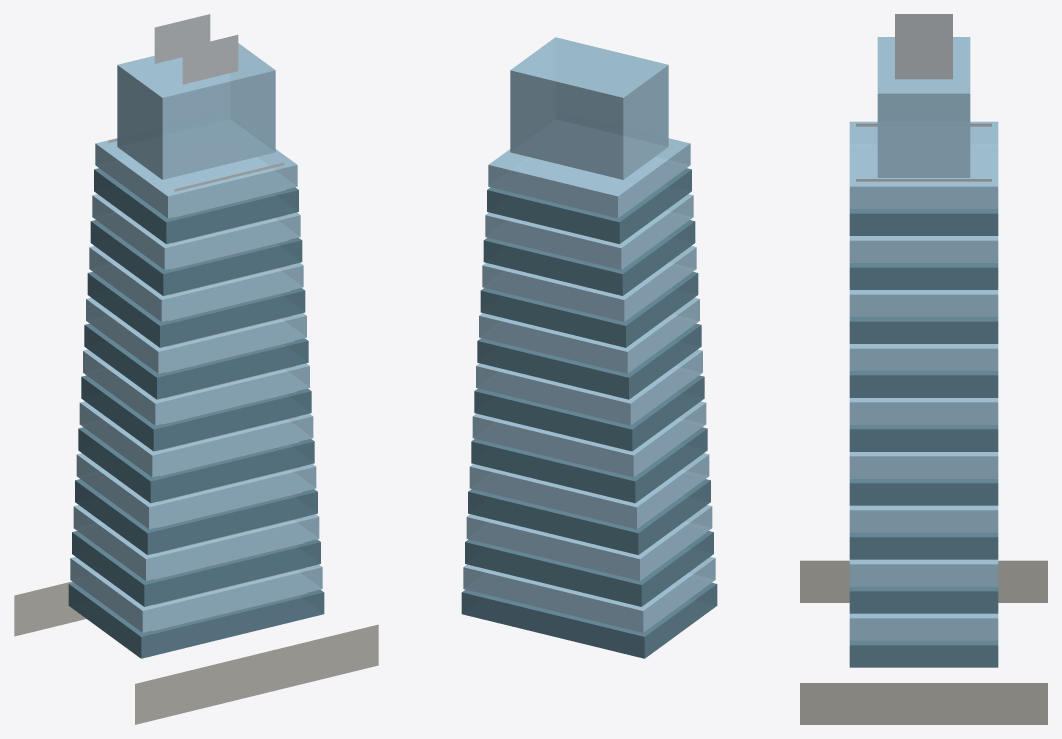
The model's file is voxel-shandong-tall-glass-tower.gltf.
3 renders of one model, left to right at view 1: azimuth 30°, elevation 25°; view 2: azimuth 150°, elevation 25°; view 3: azimuth 270°, elevation 25°, orthographic. The views are drawn at different scales.
Bounding box in the file's own units: 2.8 × 6.8 × 2.4.
